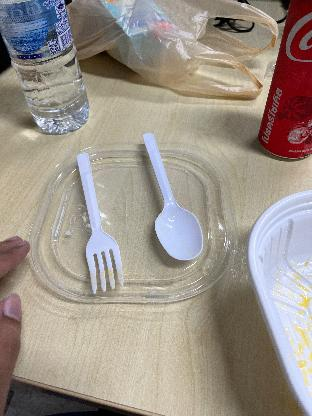Others: (132, 127, 214, 273), (61, 142, 126, 298)
Plastic Bottle: (0, 0, 90, 136)
